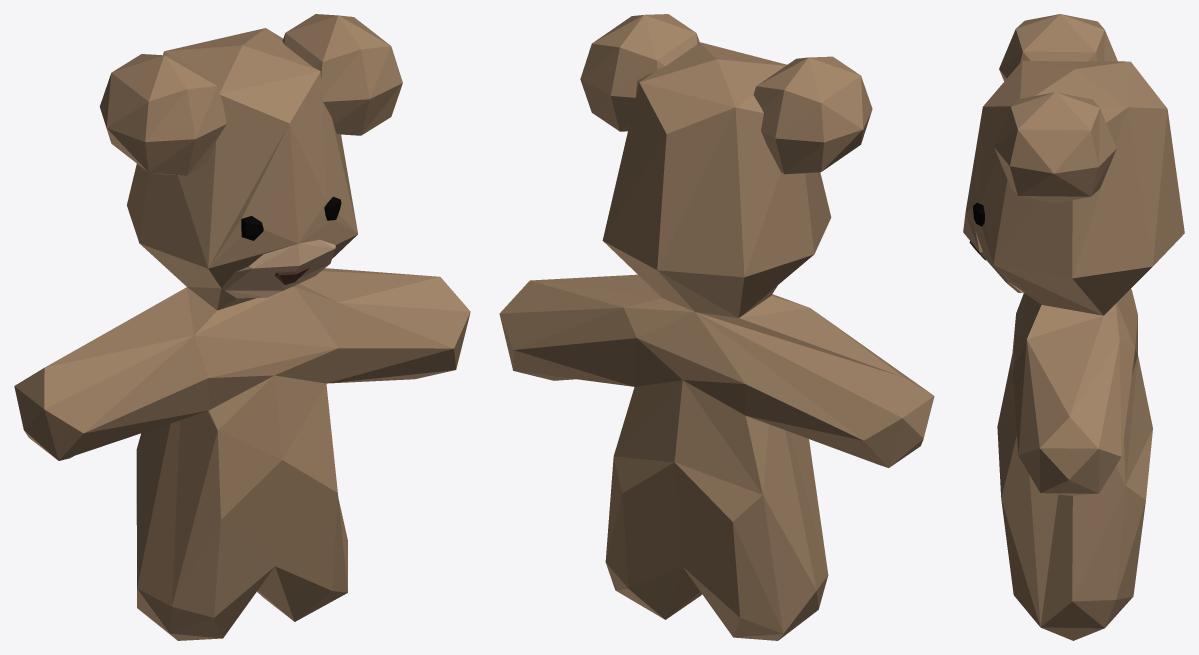
Rendered from osito.glb.
3 views of the same model, side by side, from view 1: azimuth 30°, elevation 25°; view 2: azimuth 150°, elevation 25°; view 3: azimuth 270°, elevation 25° (orthographic). The views are drawn at different scales.
Visible parts, largest first — view 1: Cube.009; view 2: Cube.009; view 3: Cube.009.
Part boxes in pixels (box(x1,y1,x2,y2)): Cube.009: box(14, 14, 470, 640); Cube.009: box(499, 14, 934, 640); Cube.009: box(963, 14, 1184, 640).
Bounding box in the file's own units: 1.98 × 2.62 × 0.9421.
